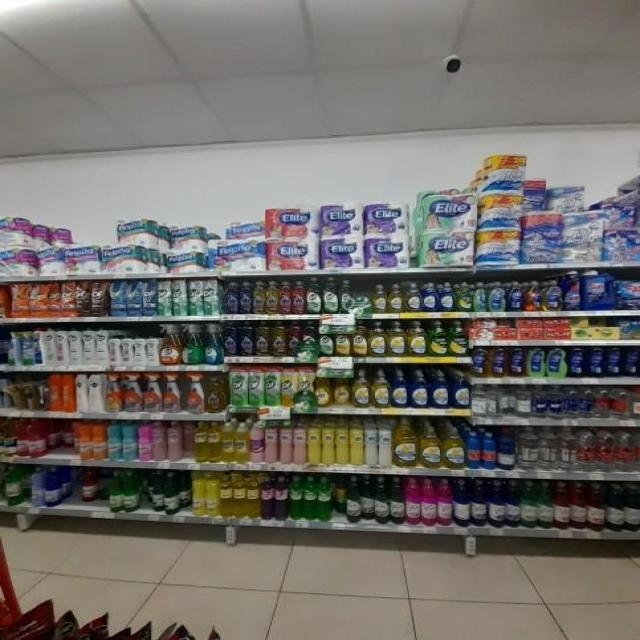ala_conc_amarillo: (206, 374, 226, 414), (271, 320, 287, 357), (254, 321, 269, 356), (287, 320, 301, 357), (252, 280, 265, 314), (266, 280, 278, 314)
ala_conc_azul: (205, 324, 222, 365), (238, 321, 254, 357), (223, 322, 238, 358), (225, 281, 239, 314), (239, 281, 251, 314)
ala_conc_rojo: (163, 374, 183, 414), (186, 374, 206, 414), (292, 280, 306, 314), (279, 280, 291, 315)
ala_crem_amarillo: (350, 424, 364, 466), (321, 424, 335, 465), (307, 424, 321, 465), (336, 425, 349, 465)
ala_crem_blanco: (364, 424, 378, 466), (378, 425, 392, 467)
ala_crem_rosado: (279, 422, 293, 464), (250, 422, 264, 463), (265, 423, 278, 464), (293, 424, 306, 464)
cif_conc_bot_amarilla: (352, 322, 368, 358), (334, 324, 350, 357)
cif_conc_botella_verde: (322, 277, 338, 314), (302, 321, 318, 357), (306, 278, 322, 314), (339, 279, 354, 314), (319, 324, 333, 357)
cif_conc_sachet_amarillo: (296, 367, 315, 408), (281, 367, 295, 407)
cif_conc_sachet_verde: (229, 366, 247, 407), (248, 366, 264, 406), (264, 366, 280, 406)
magistral_con_amarillo: (394, 423, 418, 467), (419, 425, 442, 469), (444, 426, 464, 469), (406, 320, 426, 358), (371, 369, 390, 408), (352, 369, 370, 408), (368, 322, 387, 358), (388, 321, 406, 357), (334, 369, 351, 407), (456, 281, 472, 312), (404, 282, 420, 312), (387, 283, 403, 313), (372, 284, 386, 314)
magistral_con_azul: (430, 370, 450, 409), (409, 369, 428, 408), (451, 372, 470, 409), (391, 369, 408, 408), (438, 282, 454, 312), (421, 281, 436, 312)
magistral_con_verde: (428, 320, 448, 357), (449, 320, 468, 357)
zorro: (546, 346, 566, 378), (487, 347, 507, 378), (527, 346, 545, 377), (508, 346, 526, 377)
